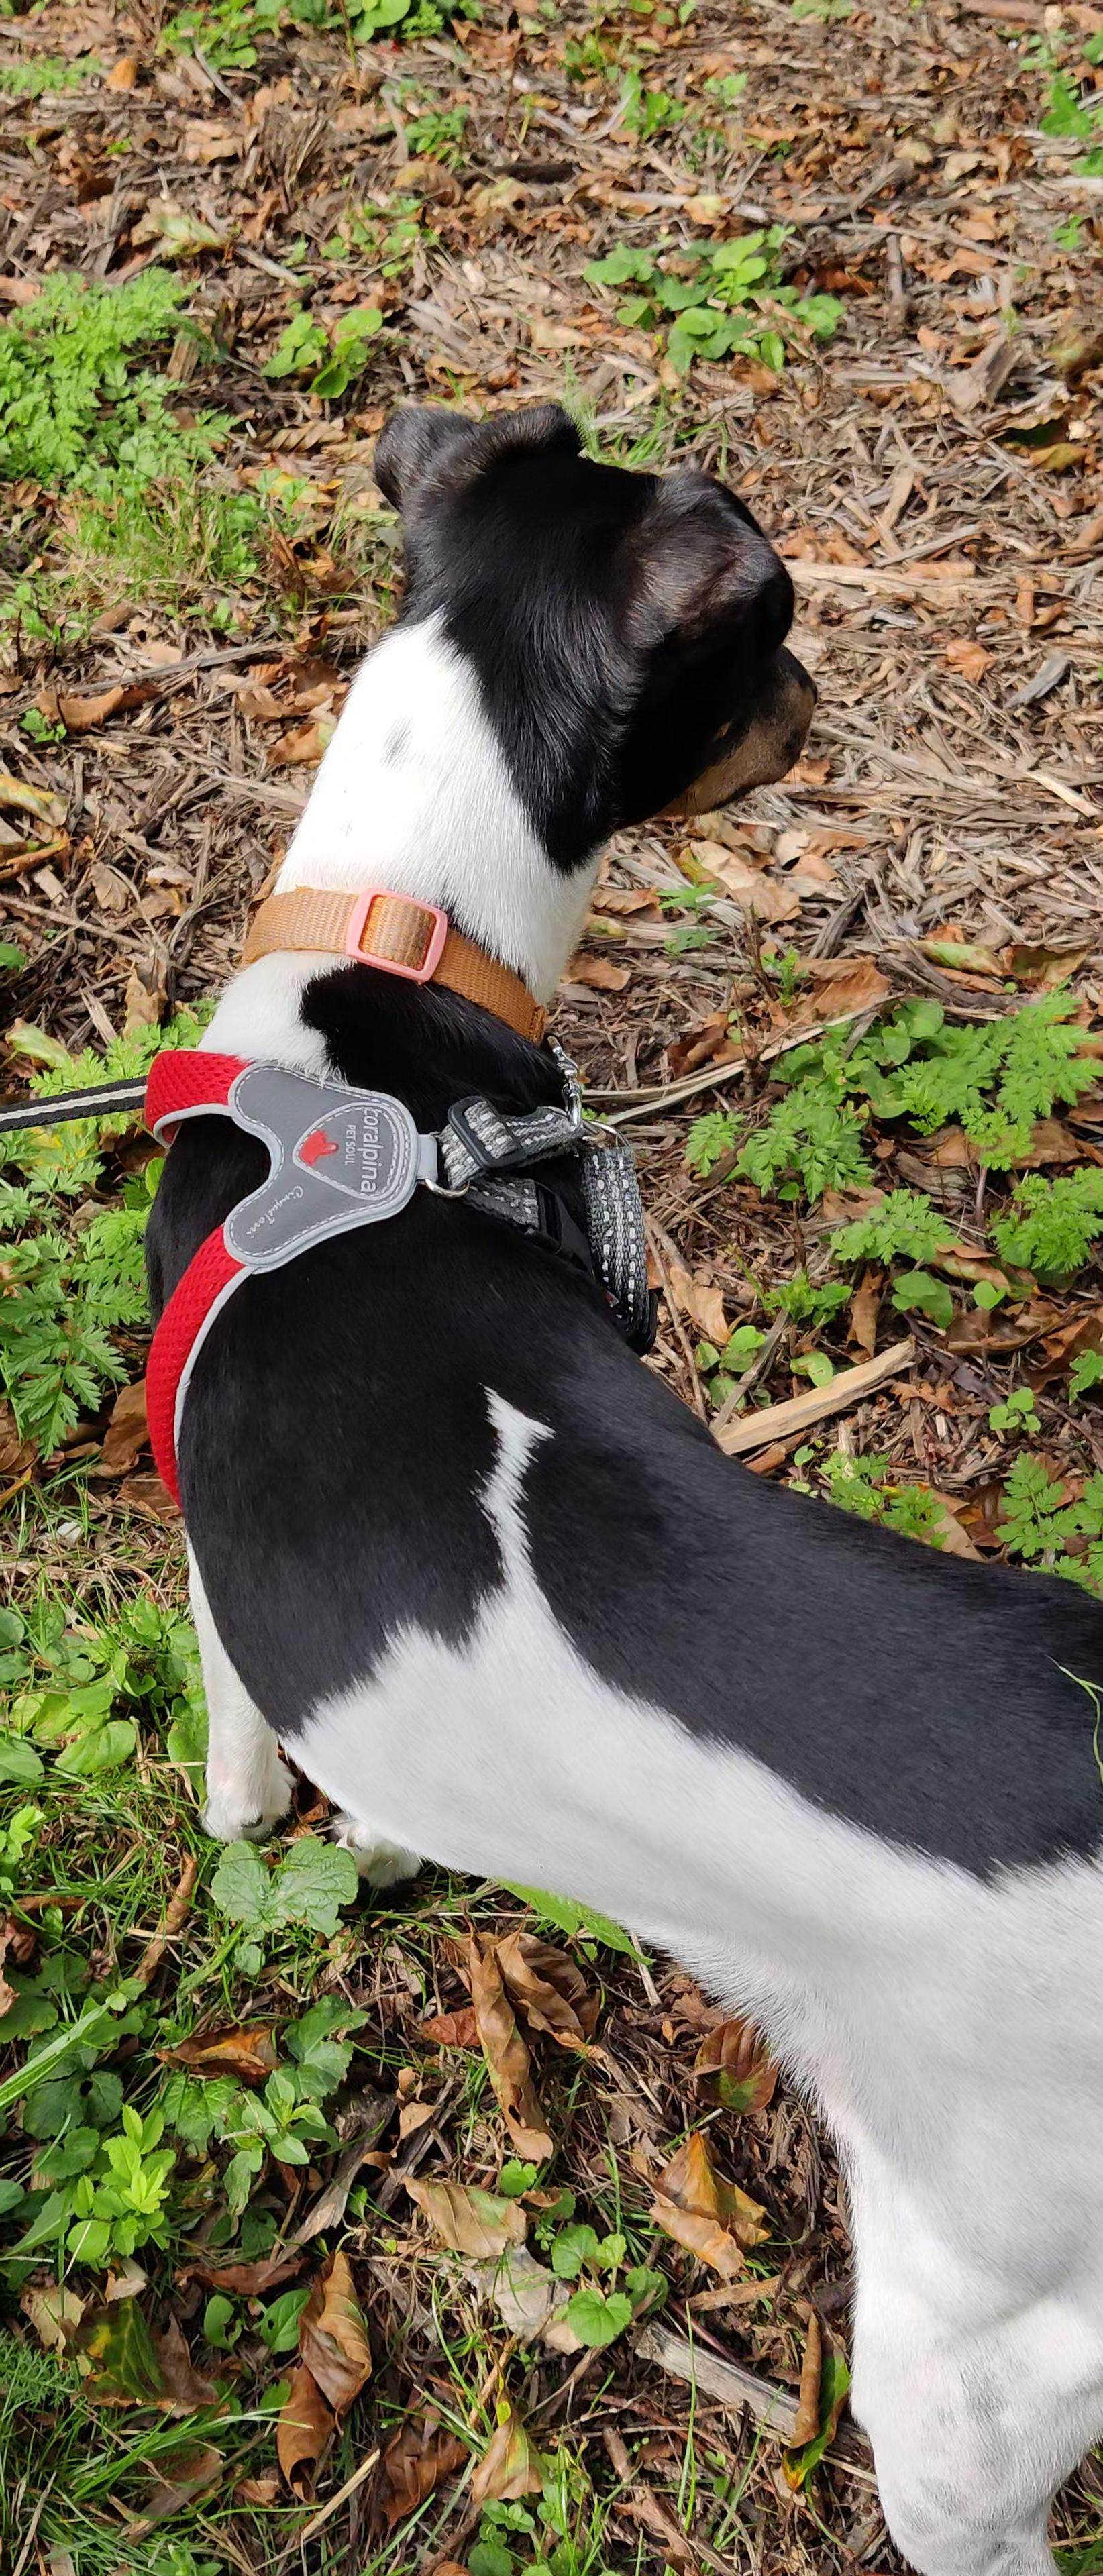Dog: (62, 361, 1103, 2576)
